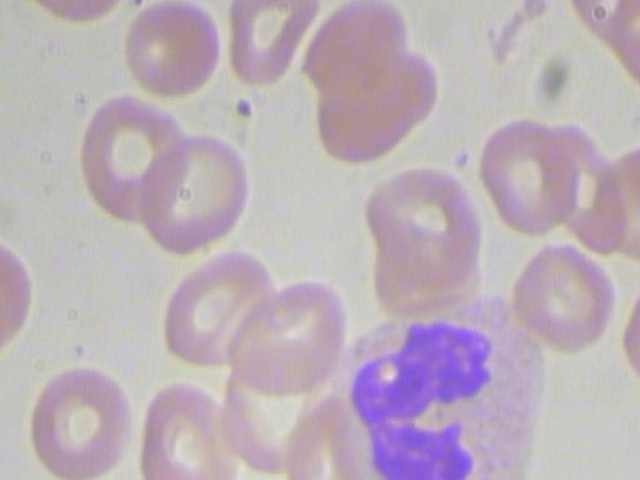RBC: (299, 0, 445, 175), (79, 87, 199, 228), (215, 272, 348, 398), (149, 244, 274, 370), (134, 125, 253, 256), (18, 358, 136, 480), (363, 159, 476, 279), (505, 237, 618, 356), (473, 115, 586, 234), (130, 375, 237, 480), (122, 0, 225, 97), (221, 0, 323, 97), (289, 394, 367, 480), (0, 233, 36, 379)
WBC: (322, 287, 564, 480)
